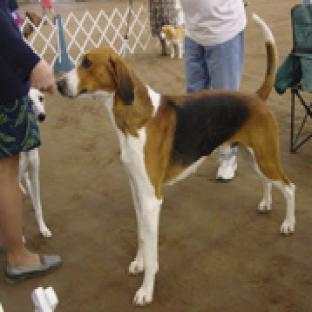Animal: (58, 15, 293, 304)
